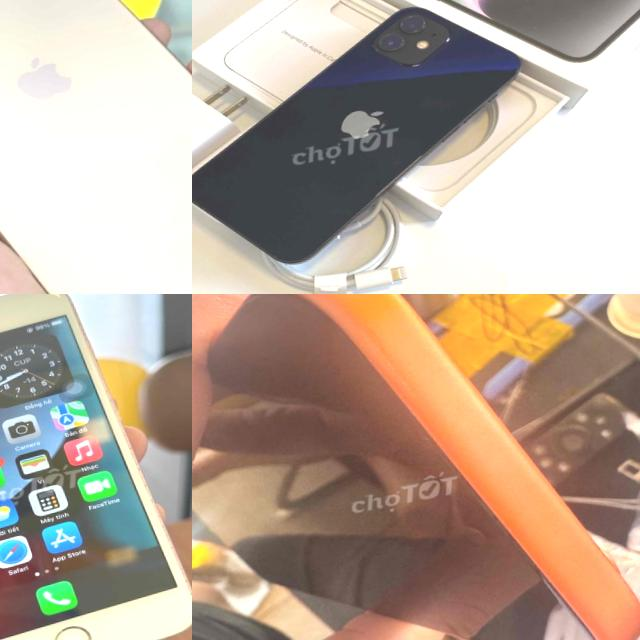gen_12_13: (192, 0, 558, 284)
gen_17: (194, 294, 640, 640)
gen_6: (0, 294, 192, 640)
gen_x_xs: (0, 0, 192, 294)
